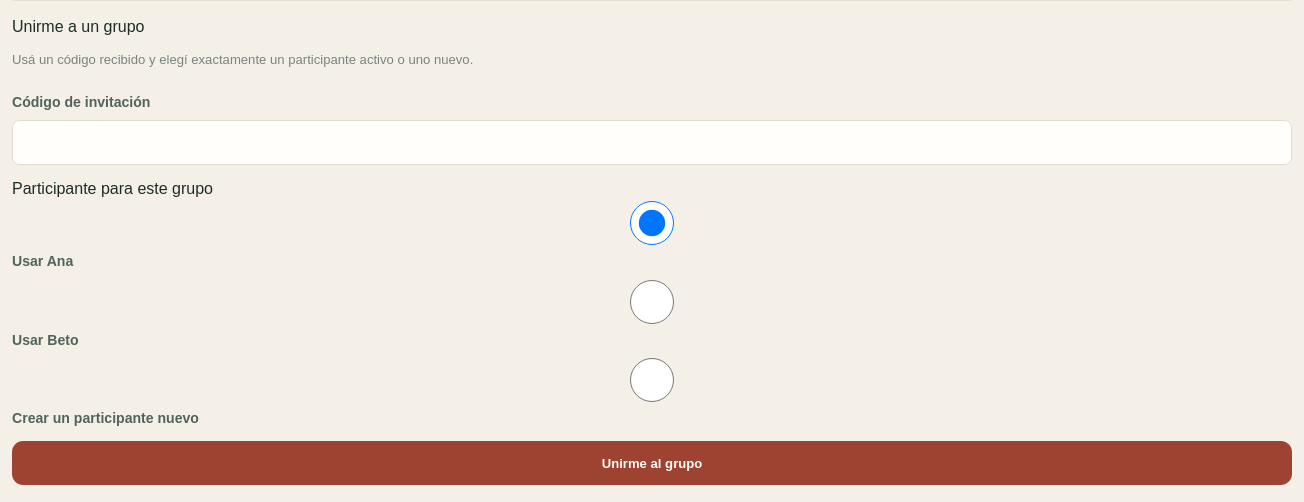
join-code consumption › submits the selected existing participant and invalidates protected queries
Type "SECRET-123" into the field labelled "Código de invitación" at point(652, 143), box [12,120,1292,165]
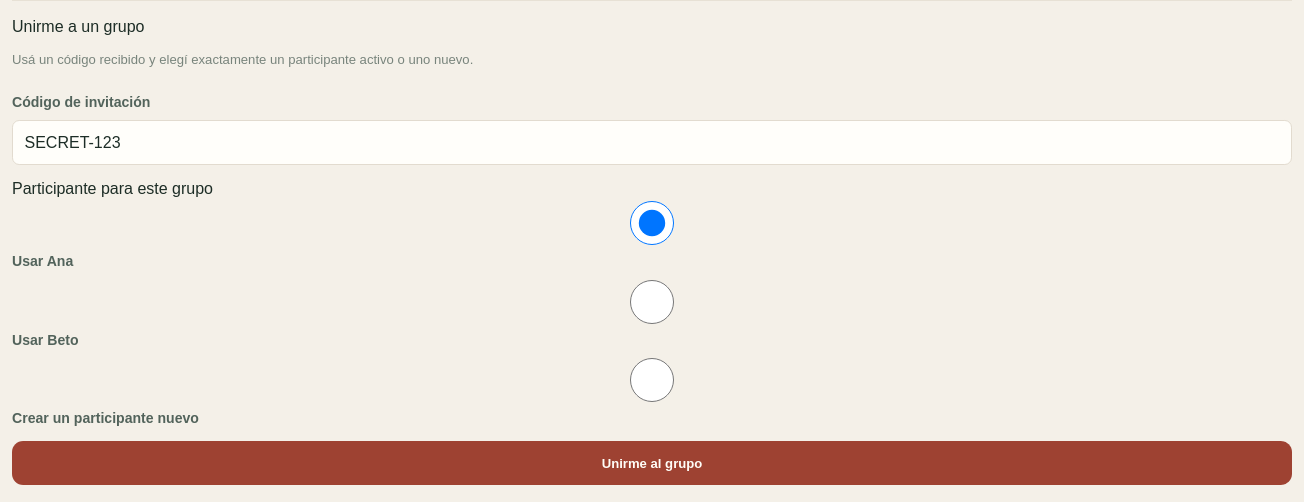
Click the button "Unirme al grupo" at point(652, 463), box [12,441,1292,485]
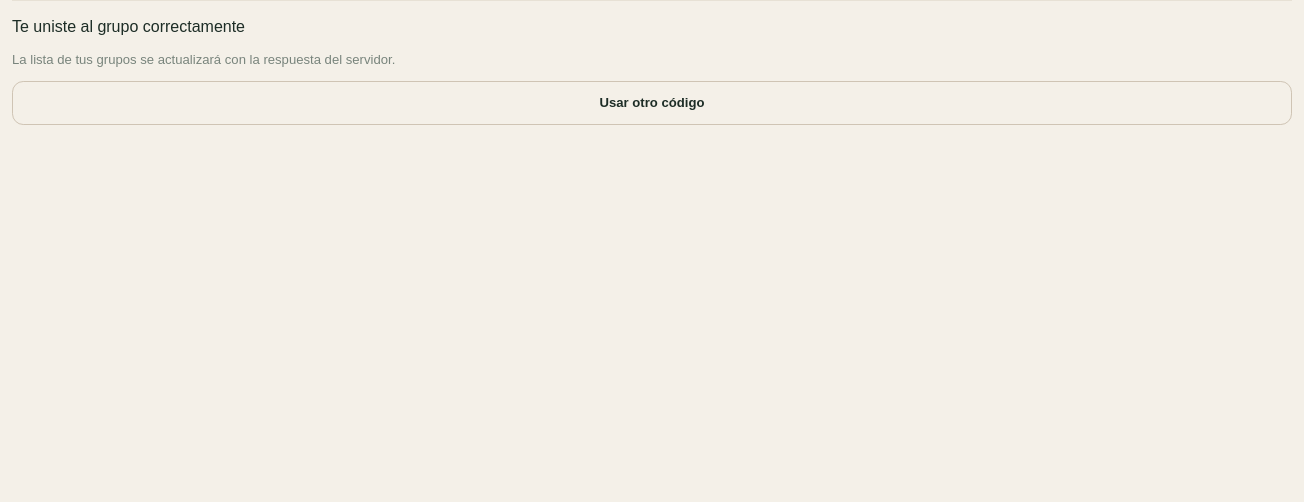
Now the message shows "Te uniste al grupo correctamente", box [12,18,245,35]
Now the button "Usar otro código" is shown, box [12,81,1292,125]
